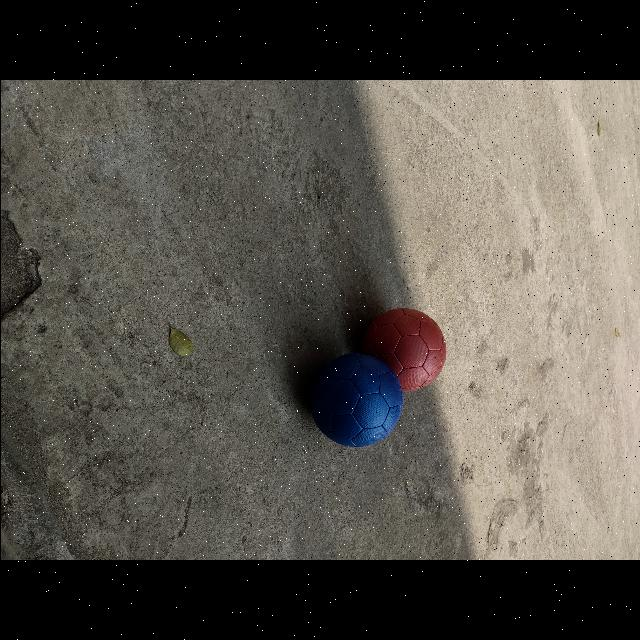B: (306, 352, 403, 448)
R: (356, 307, 444, 392)
